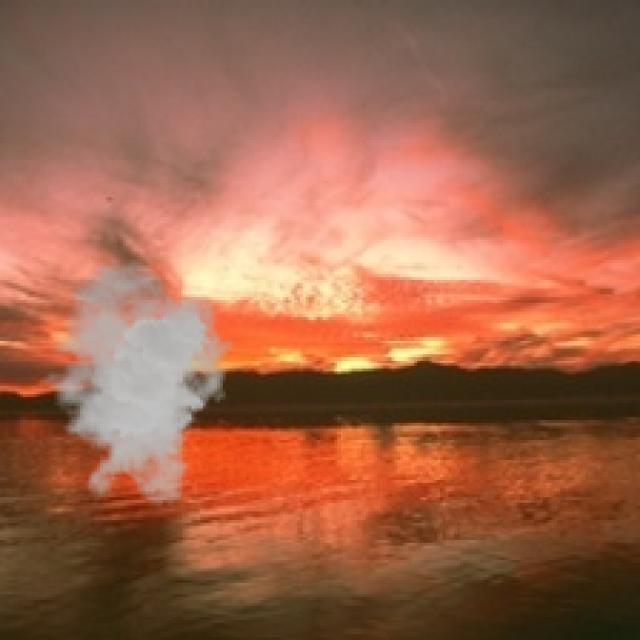smoke: (32, 260, 235, 509)
